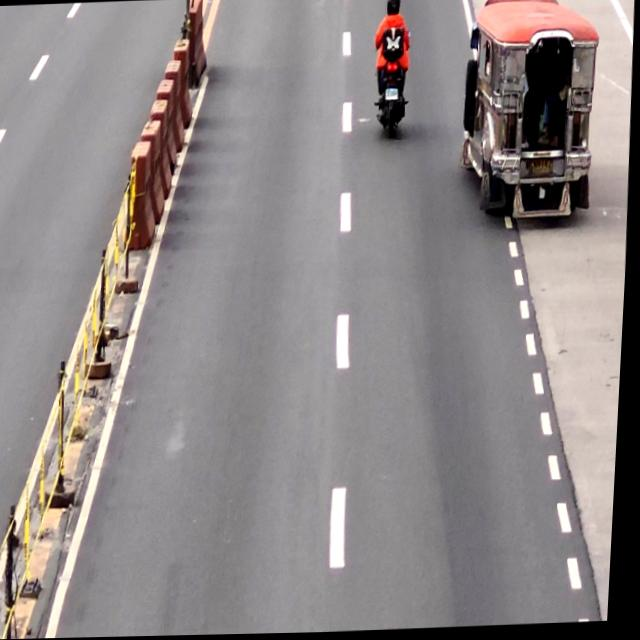Jeep: (457, 0, 604, 224)
License-Plate: (530, 160, 557, 179), (386, 88, 398, 100)
Motorcycle: (371, 24, 414, 141)
